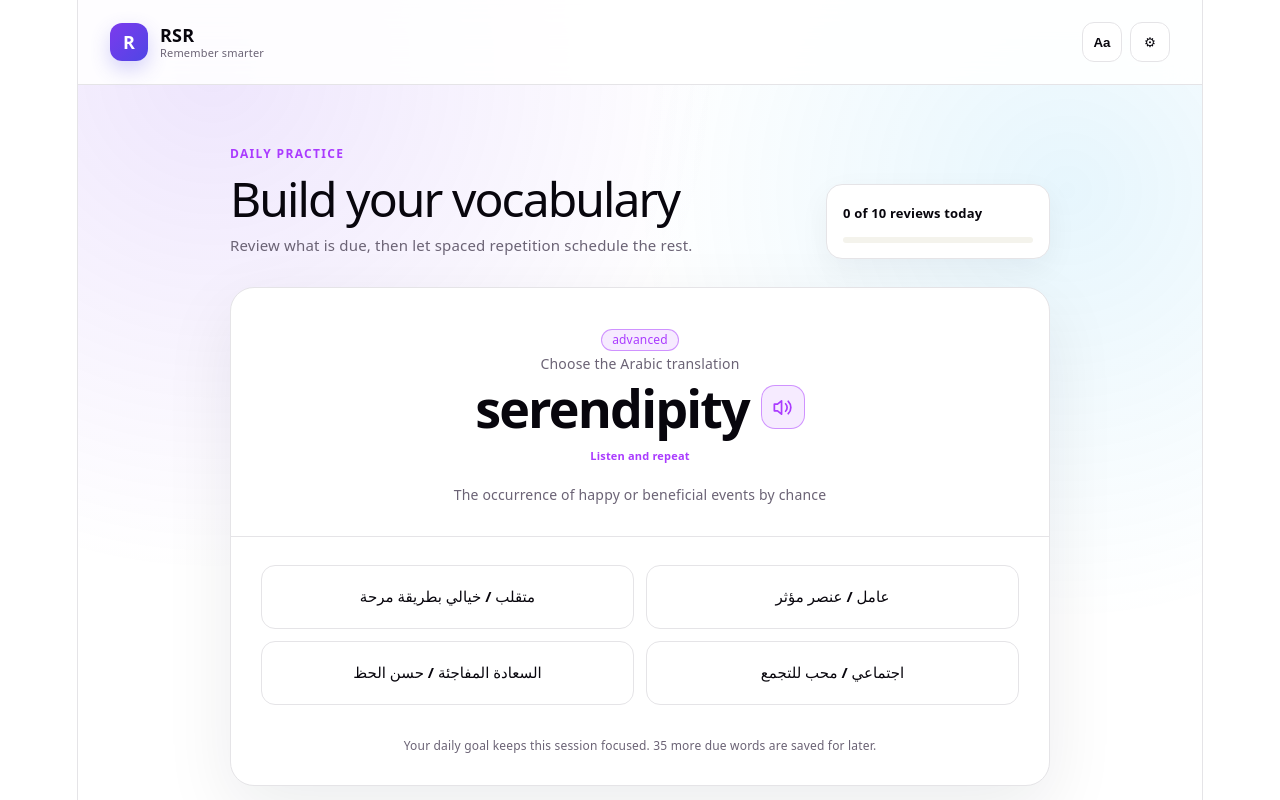
Test: App › uses a production-facing label for the word library
This screenshot has width=1280, height=800.
Click the button with aria-label "Open word library" at (1102, 42), box [1082,22,1122,62]
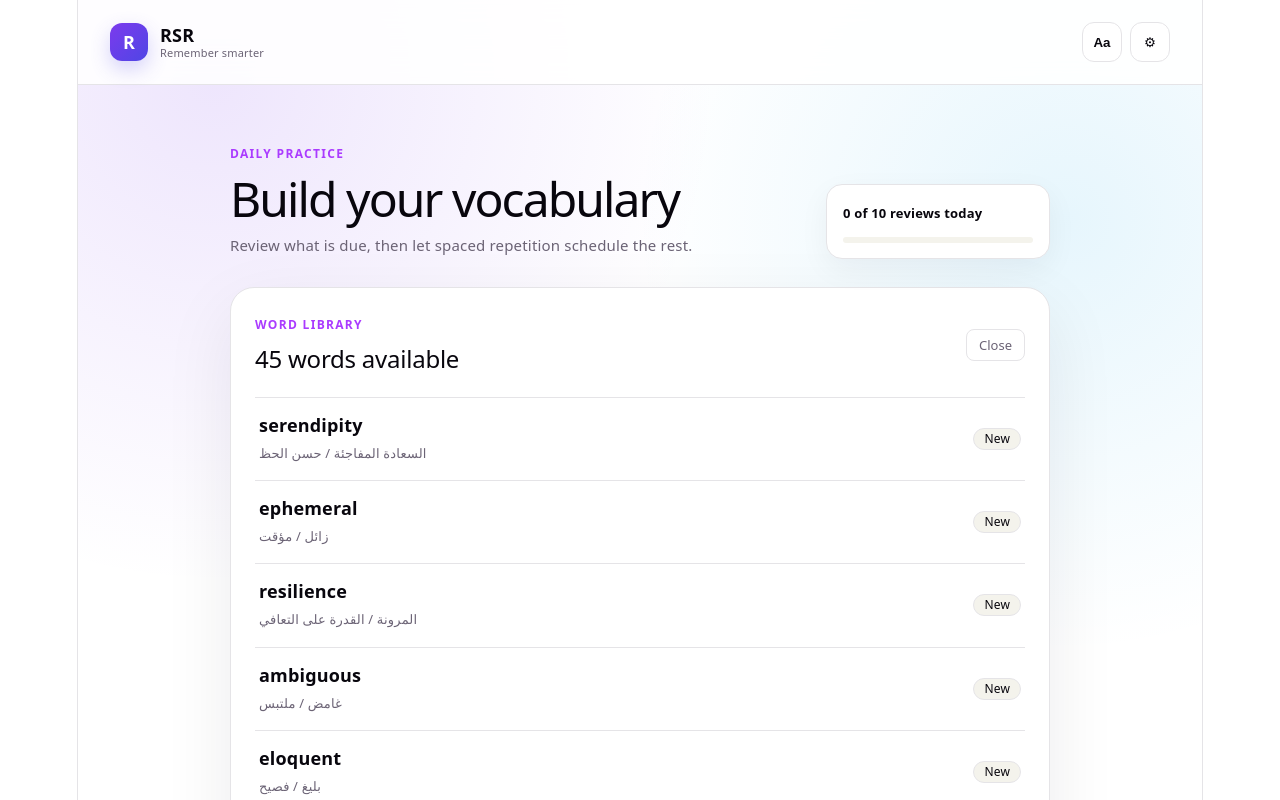
Expected: the text "Word library" is shown, [255,316,363,333]
